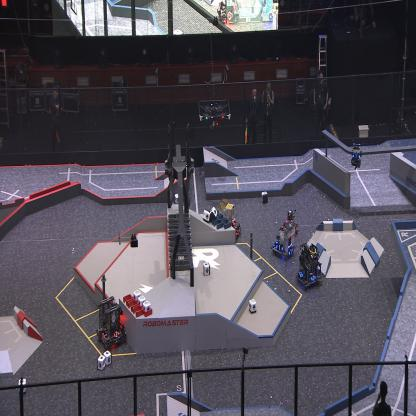car: (96, 295, 127, 349), (296, 240, 322, 290), (271, 221, 297, 262), (221, 200, 242, 242), (282, 210, 300, 238)
